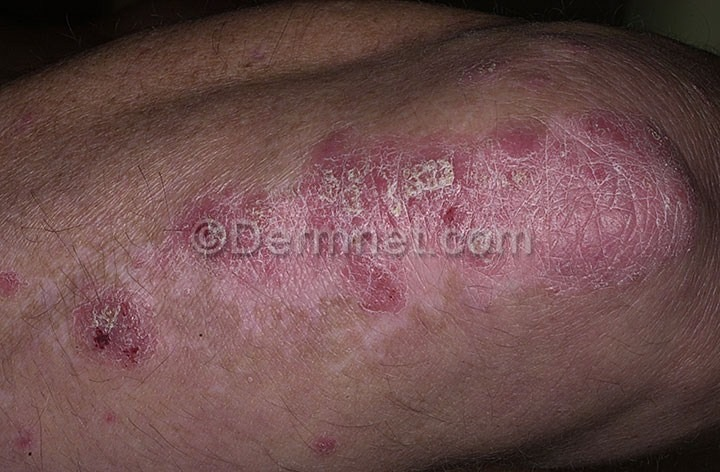Psoriasis: (161, 135, 697, 330), (32, 262, 172, 385), (425, 35, 563, 103)
